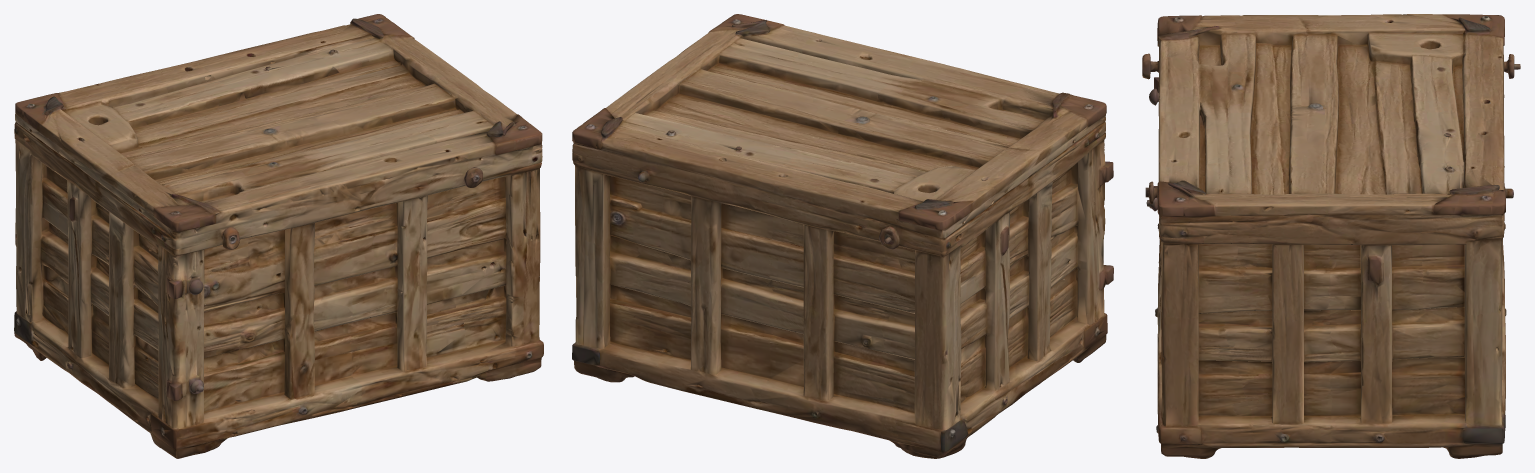
File: tree_bush_2.glb
The picture shows the model from 3 angles, left to right: view 1: azimuth 30°, elevation 25°; view 2: azimuth 150°, elevation 25°; view 3: azimuth 270°, elevation 25°; orthographic projection. The views are drawn at different scales.
Visible parts, largest first — view 1: tripo_node_9422272d-740a-4676-ae26-2e7390c4592d; view 2: tripo_node_9422272d-740a-4676-ae26-2e7390c4592d; view 3: tripo_node_9422272d-740a-4676-ae26-2e7390c4592d.
Boxes of the visible parts, <box> form: tripo_node_9422272d-740a-4676-ae26-2e7390c4592d: <box>14,14,543,458</box>; tripo_node_9422272d-740a-4676-ae26-2e7390c4592d: <box>572,14,1113,458</box>; tripo_node_9422272d-740a-4676-ae26-2e7390c4592d: <box>1142,14,1520,458</box>.
Size of the model in its own units: 0.9783 by 0.6158 by 0.8077.
Materials: 1 (1 with a texture image).
